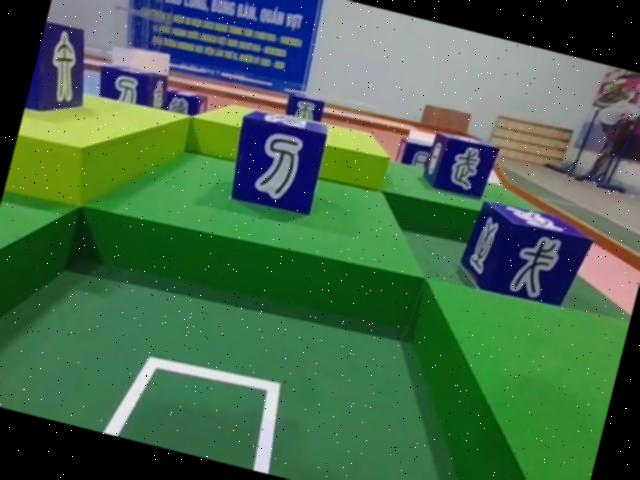R2 Fake Blue: (457, 199, 599, 317), (220, 104, 332, 219), (22, 22, 99, 128), (418, 131, 496, 204), (91, 60, 169, 115), (394, 136, 435, 173), (281, 90, 324, 124)
